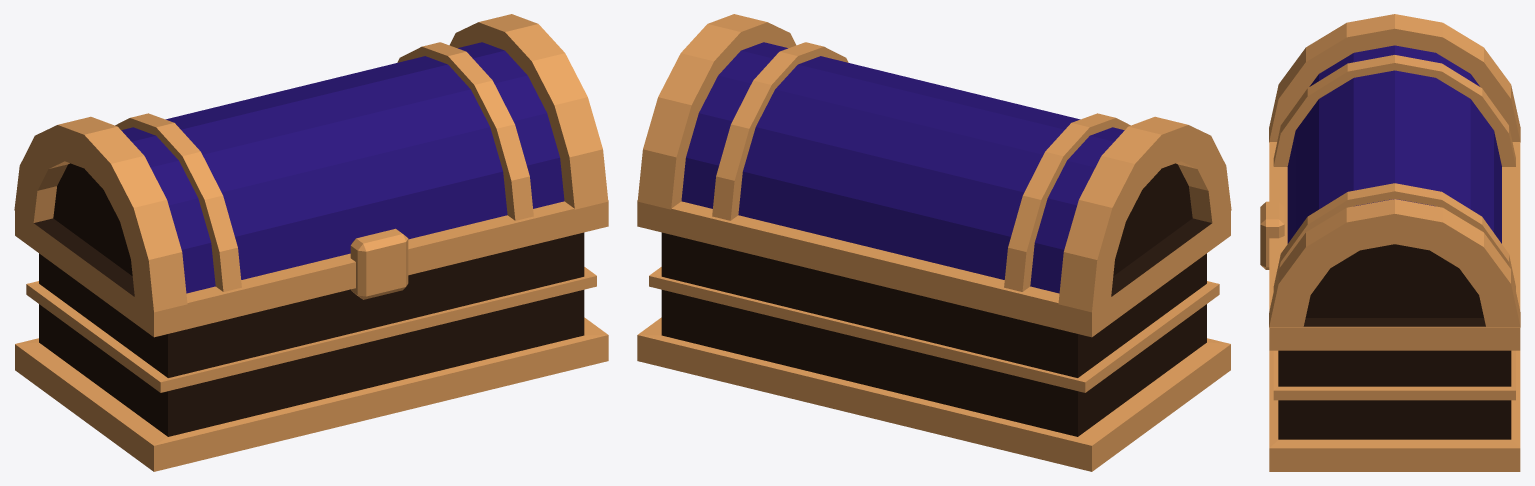
File: magic_box.gltf
3 views of the same model, side by side, from view 1: azimuth 30°, elevation 25°; view 2: azimuth 150°, elevation 25°; view 3: azimuth 270°, elevation 25° (orthographic). The views are drawn at different scales.
Parts seen in each view (by area): view 1: Cube; view 2: Cube; view 3: Cube.
Boxes of the visible parts, <box> form: Cube: <box>14,14,608,471</box>; Cube: <box>637,14,1231,471</box>; Cube: <box>1260,14,1520,471</box>.
Bounding box in the file's own units: 2.05 × 1.23 × 1.13.
